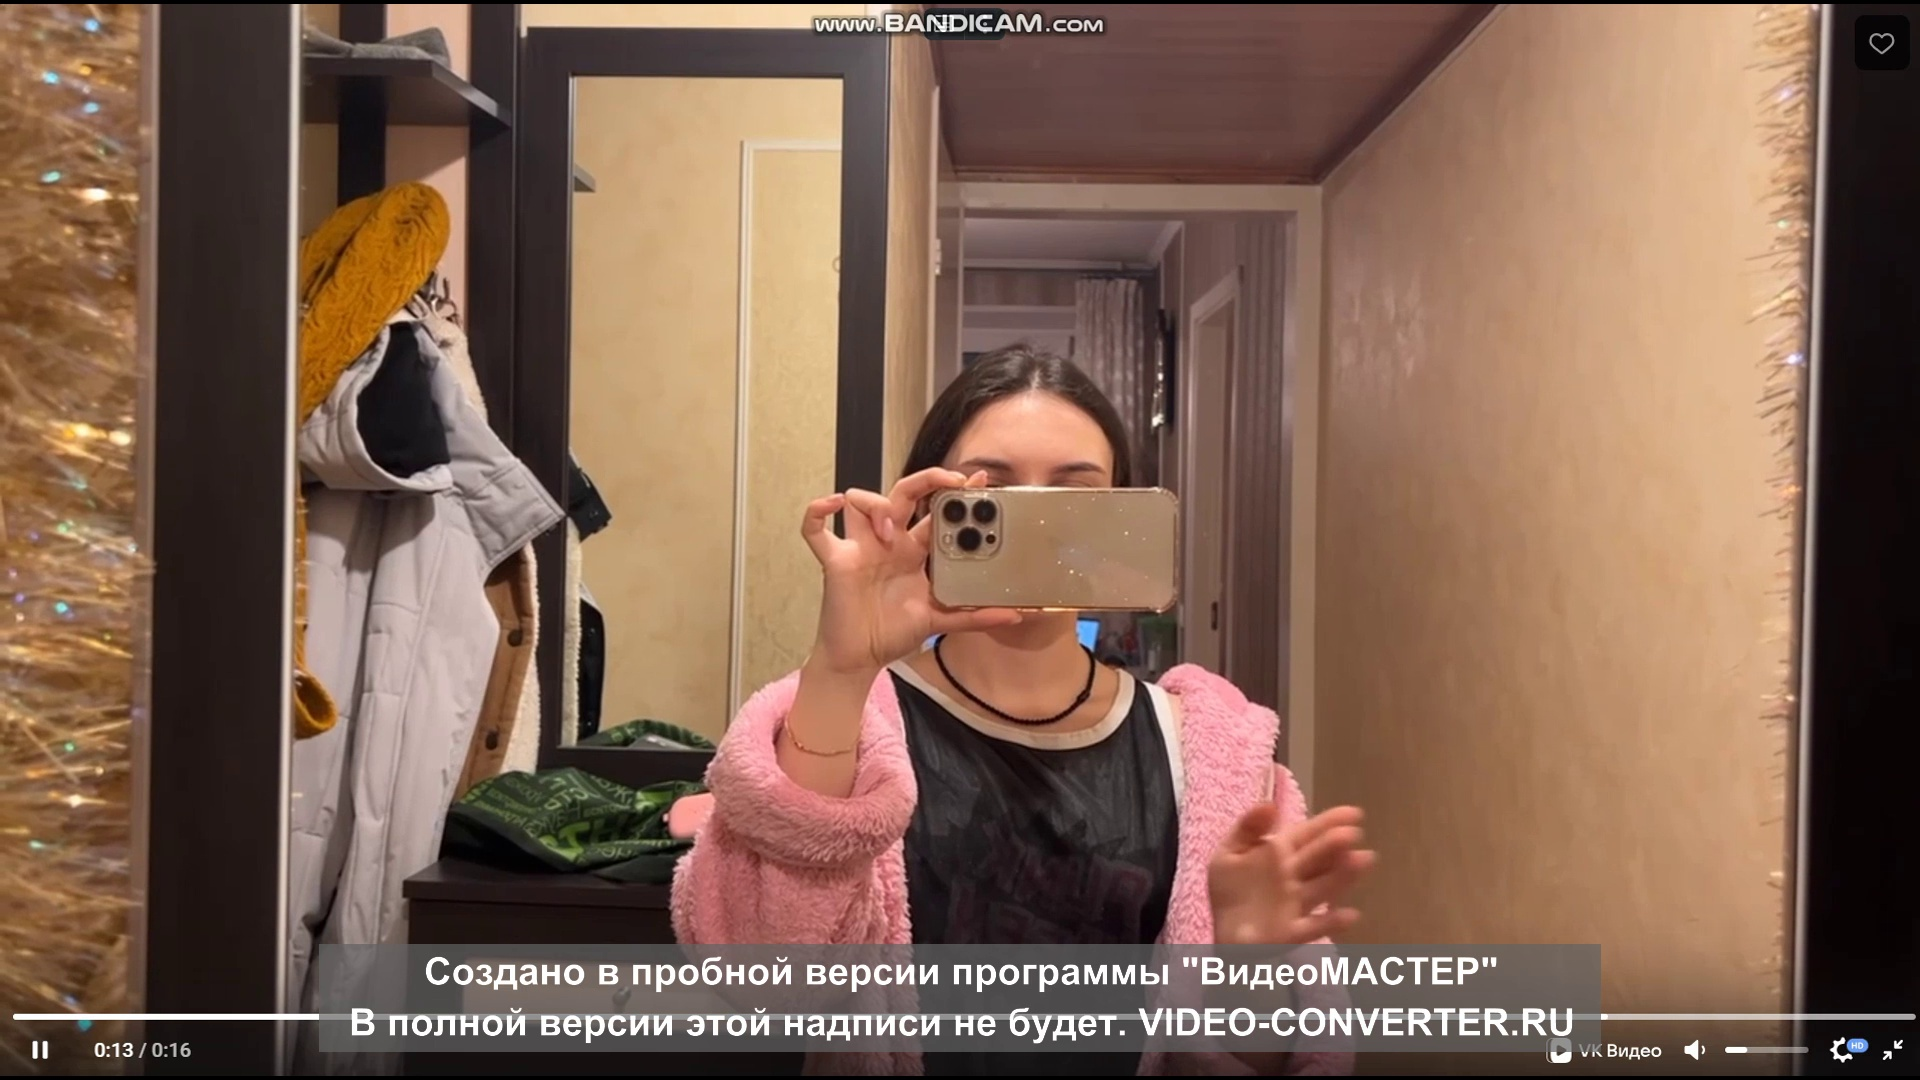Ладонь: (1200, 799, 1373, 942)
